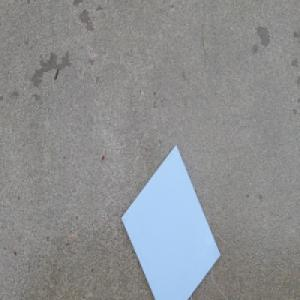PaintChip: (120, 142, 221, 300)
